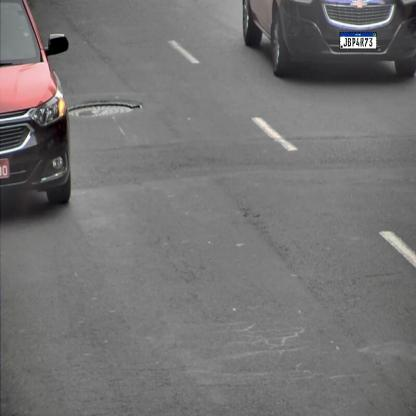PlacaM: (340, 32, 377, 49)
